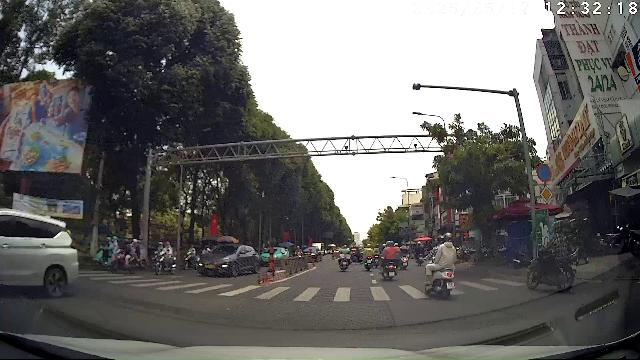131a-cam-do-xe: (536, 162, 552, 182)
